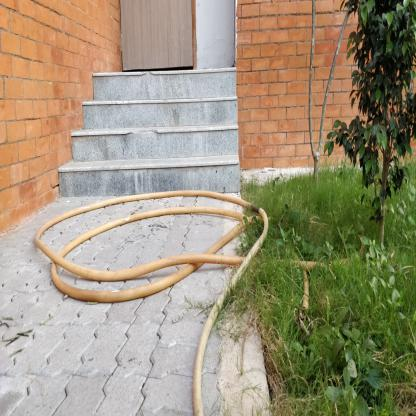stairs: (87, 103, 234, 204)
